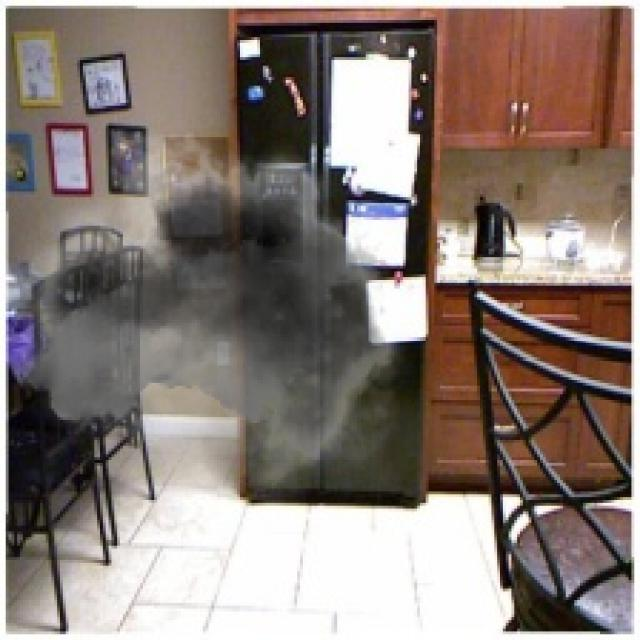smoke: (8, 111, 423, 534)
